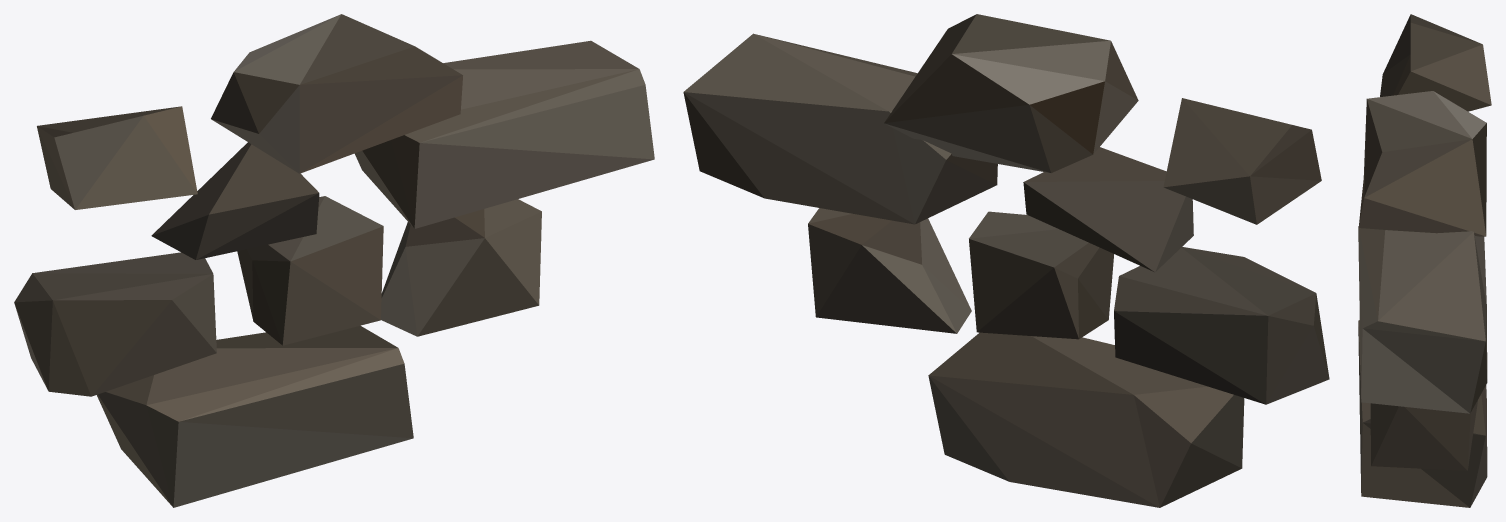
Rendered from Decal-Bricks_C.fbx.
3 renders of one model, left to right at view 1: azimuth 30°, elevation 25°; view 2: azimuth 150°, elevation 25°; view 3: azimuth 270°, elevation 25°, orthographic. The views are drawn at different scales.
Parts seen in each view (by area): view 1: Decal-Bricks_C; view 2: Decal-Bricks_C; view 3: Decal-Bricks_C.
Part boxes in pixels (left/top/right/bottom): Decal-Bricks_C: left=14, top=14, right=654, bottom=507; Decal-Bricks_C: left=683, top=14, right=1329, bottom=507; Decal-Bricks_C: left=1358, top=14, right=1491, bottom=507.
Size of the model in its own units: 266 by 170 by 55.89.
